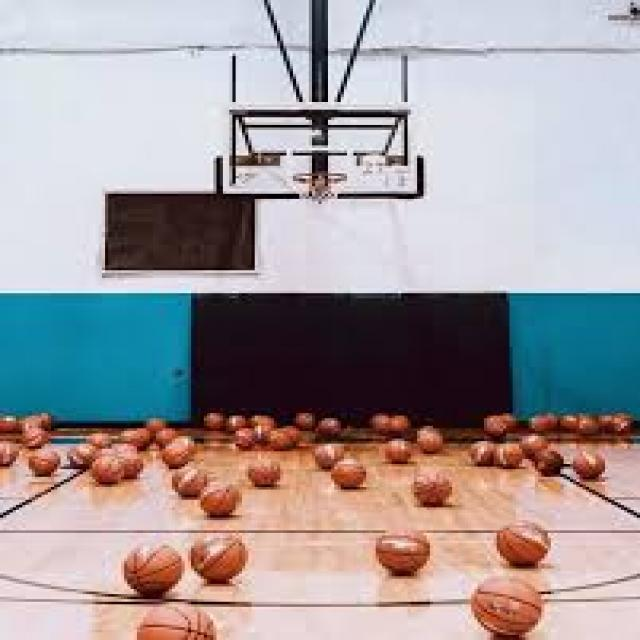rim: (474, 578, 554, 632), (146, 599, 214, 640), (494, 520, 554, 566), (379, 525, 433, 571), (127, 540, 175, 590), (194, 530, 242, 579), (201, 482, 242, 518), (162, 434, 198, 466), (246, 456, 286, 484), (92, 454, 124, 487), (414, 472, 452, 499), (315, 441, 350, 469), (175, 469, 210, 497), (570, 413, 602, 441), (573, 449, 602, 477), (32, 449, 60, 477), (382, 436, 414, 459), (608, 411, 637, 436), (534, 454, 558, 484), (64, 441, 90, 467), (532, 411, 558, 436), (341, 458, 366, 484), (270, 426, 294, 452), (124, 428, 150, 452), (471, 438, 494, 462), (420, 428, 446, 449), (3, 408, 19, 439), (25, 413, 48, 434), (496, 444, 520, 464), (204, 410, 226, 430), (484, 416, 506, 436), (92, 428, 111, 449), (236, 431, 258, 449), (296, 410, 319, 426), (258, 413, 274, 436), (0, 438, 13, 466), (522, 431, 541, 449), (236, 413, 252, 434), (150, 418, 168, 436), (322, 418, 341, 434), (392, 413, 408, 431), (372, 413, 388, 428)
